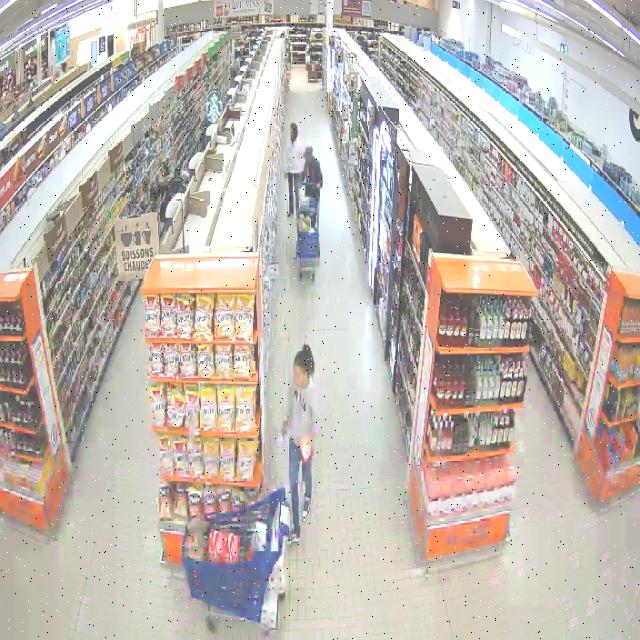article: (298, 436, 315, 464)
hands: (281, 421, 288, 438), (309, 431, 316, 444), (316, 183, 321, 189), (284, 173, 288, 180), (297, 182, 302, 187)
person: (282, 343, 318, 543), (286, 122, 304, 216), (302, 147, 323, 198)
